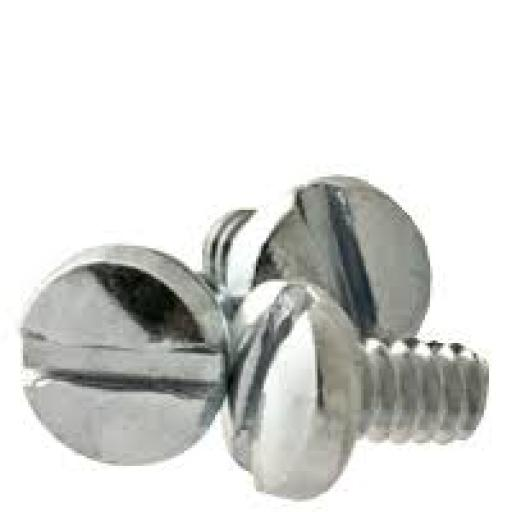Slotted: (14, 245, 234, 476)
